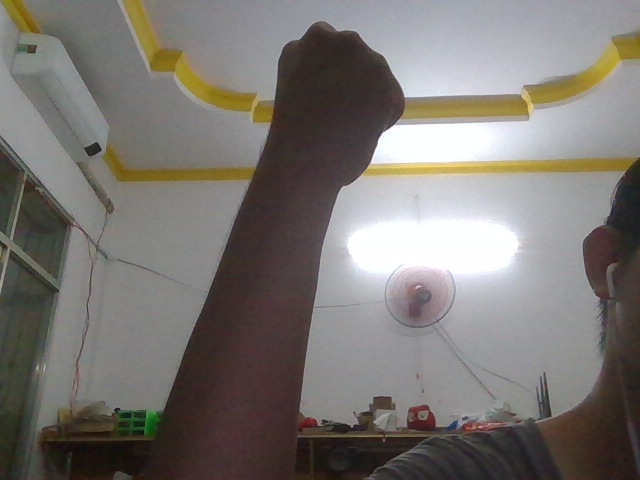fist: (241, 8, 411, 248)
